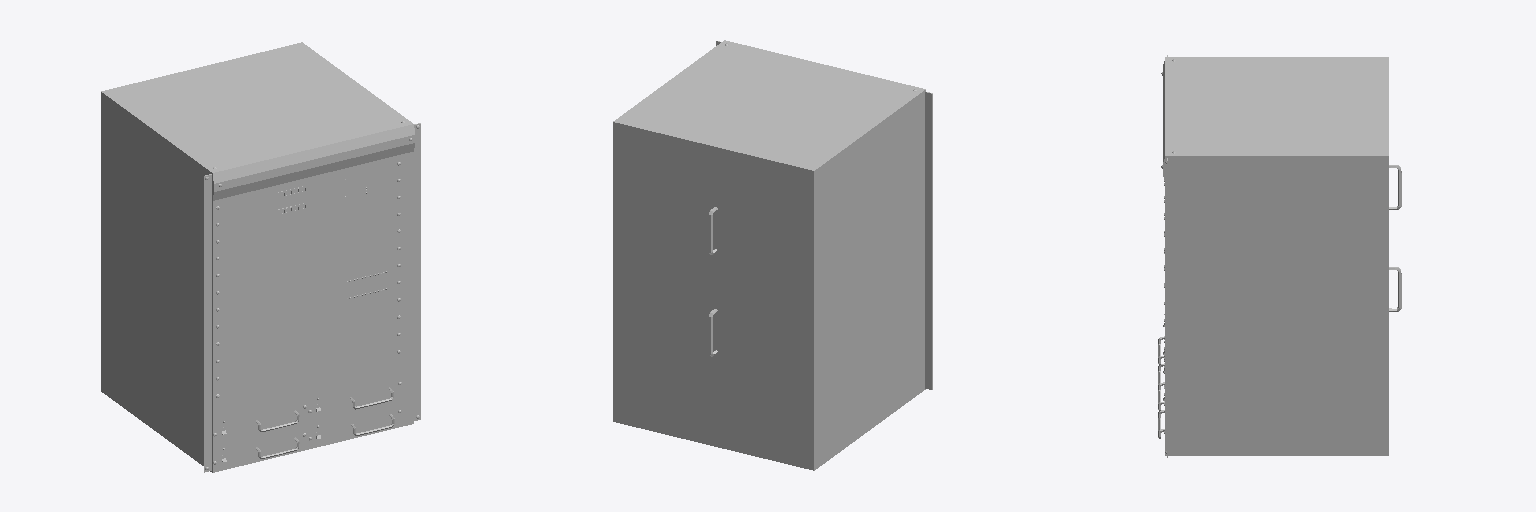
3 views of the same model, side by side, from view 1: azimuth 30°, elevation 25°; view 2: azimuth 150°, elevation 25°; view 3: azimuth 270°, elevation 25° (orthographic).
Visible parts, largest first — view 1: C1_9 pCube30, C1_9 pCube35; view 2: C1_9 pCube30, C1_9 pCube35; view 3: C1_9 pCube30.
Part boxes in pixels (left/top/right/bottom): C1_9 pCube30: left=101, top=42, right=414, bottom=472; C1_9 pCube35: left=204, top=123, right=420, bottom=472; C1_9 pCube30: left=613, top=40, right=925, bottom=470; C1_9 pCube35: left=716, top=41, right=932, bottom=389; C1_9 pCube30: left=1163, top=57, right=1388, bottom=455.
Bounding box in the file's own units: 53.81 × 71.4 × 52.3.